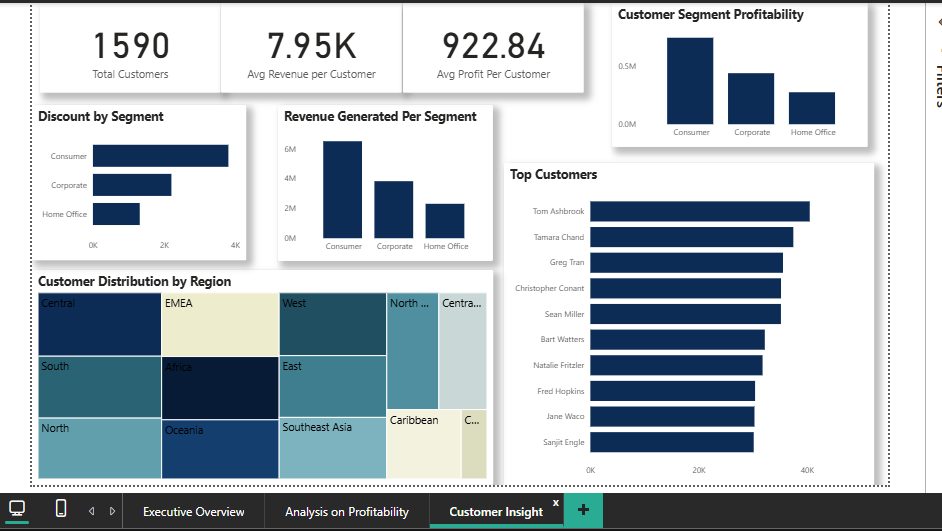

The dashboard page shown, as its layout file describes it:
{"tool":"powerbi","page":{"name":"Customer Insight","canvas":[1280,720],"ordinal":2},"visuals":[{"type":"columnChart","title":"Revenue Generated Per  Segment","fields":{"Category":["Cleaned_Global_Superstore2.Segment"],"Y":["Cleaned_Global_Superstore2.Total Revenue"]},"box":[367.5,152.4,321.2,233],"z":0},{"type":"card","fields":{"Values":["Cleaned_Global_Superstore2.Total Customers"]},"box":[11.8,0,270,134],"z":1000},{"type":"columnChart","title":"Customer Segment Profitability","fields":{"Category":["Cleaned_Global_Superstore2.Segment"],"Y":["Sum(Cleaned_Global_Superstore2.Profit)"]},"box":[866.4,0,382.4,215.1],"z":2000},{"type":"barChart","title":"Top Customers","fields":{"Category":["Cleaned_Global_Superstore2.Customer_Name"],"Y":["Sum(Cleaned_Global_Superstore2.Sales)"]},"box":[705.1,239,552.7,481],"z":3000},{"type":"card","fields":{"Values":["Cleaned_Global_Superstore2.Avg Revenue per Customer"]},"box":[283,0,270,134],"z":4000},{"type":"card","fields":{"Values":["Cleaned_Global_Superstore2.Avg Profit Per Customer"]},"box":[554.3,0,270,134],"z":5000},{"type":"treemap","title":"Customer Distribution by Region","fields":{"Group":["Cleaned_Global_Superstore2.Region"],"Values":["Cleaned_Global_Superstore2.Total Customers"]},"box":[0,398.8,688.6,321.2],"z":6000},{"type":"barChart","title":"Discount by Segment","fields":{"Y":["Sum(Cleaned_Global_Superstore2.Discount)"],"Category":["Cleaned_Global_Superstore2.Segment"]},"box":[0,152.4,319.7,231.5],"z":7000}]}

Visuals, with their boxes on the page's 1280x720 design canvas (x1, y1, x2, y2). These are canvas units, not pixel positions in the 942x531 screenshot, which may show the page scaled, cropped or inside an application window:
"Revenue Generated Per  Segment" columnChart: BBox(368, 152, 689, 385)
card - Cleaned_Global_Superstore2.Total Customers: BBox(12, 0, 282, 134)
"Customer Segment Profitability" columnChart: BBox(866, 0, 1249, 215)
"Top Customers" barChart: BBox(705, 239, 1258, 720)
card - Cleaned_Global_Superstore2.Avg Revenue per Customer: BBox(283, 0, 553, 134)
card - Cleaned_Global_Superstore2.Avg Profit Per Customer: BBox(554, 0, 824, 134)
"Customer Distribution by Region" treemap: BBox(0, 399, 689, 720)
"Discount by Segment" barChart: BBox(0, 152, 320, 384)
